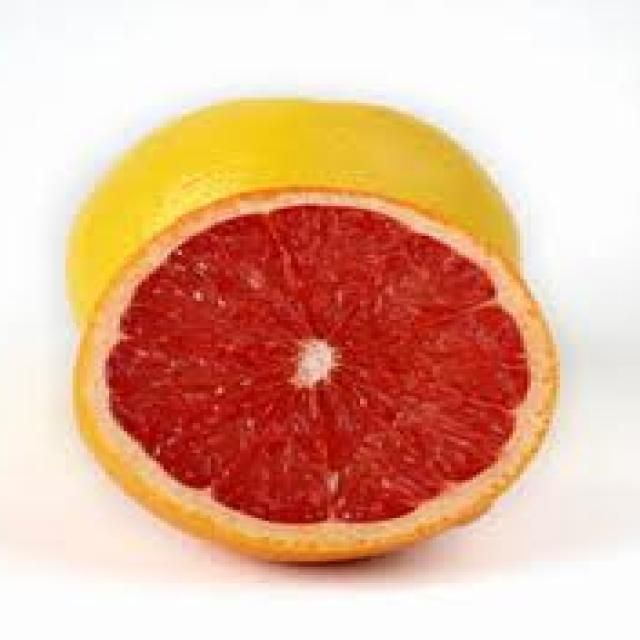greapefurit: (62, 90, 560, 570)
